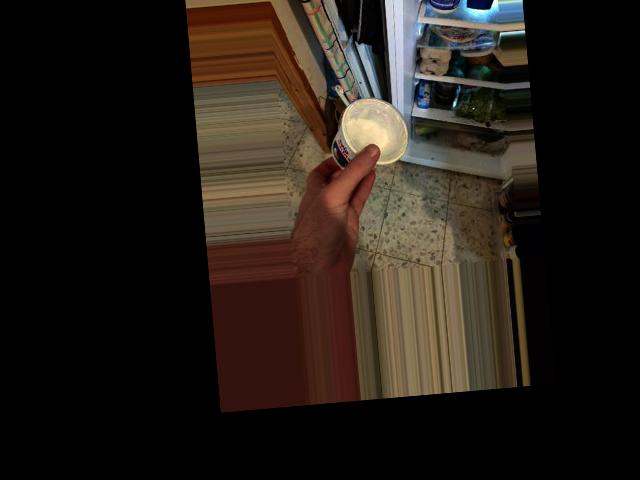cotage: (322, 90, 411, 175)
